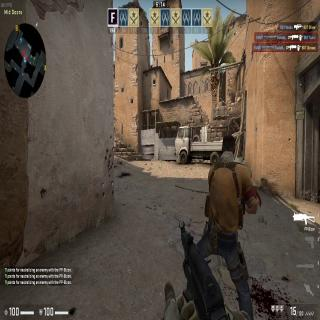CT-Body: (208, 134, 257, 306)
CT-Head: (222, 134, 236, 162)
